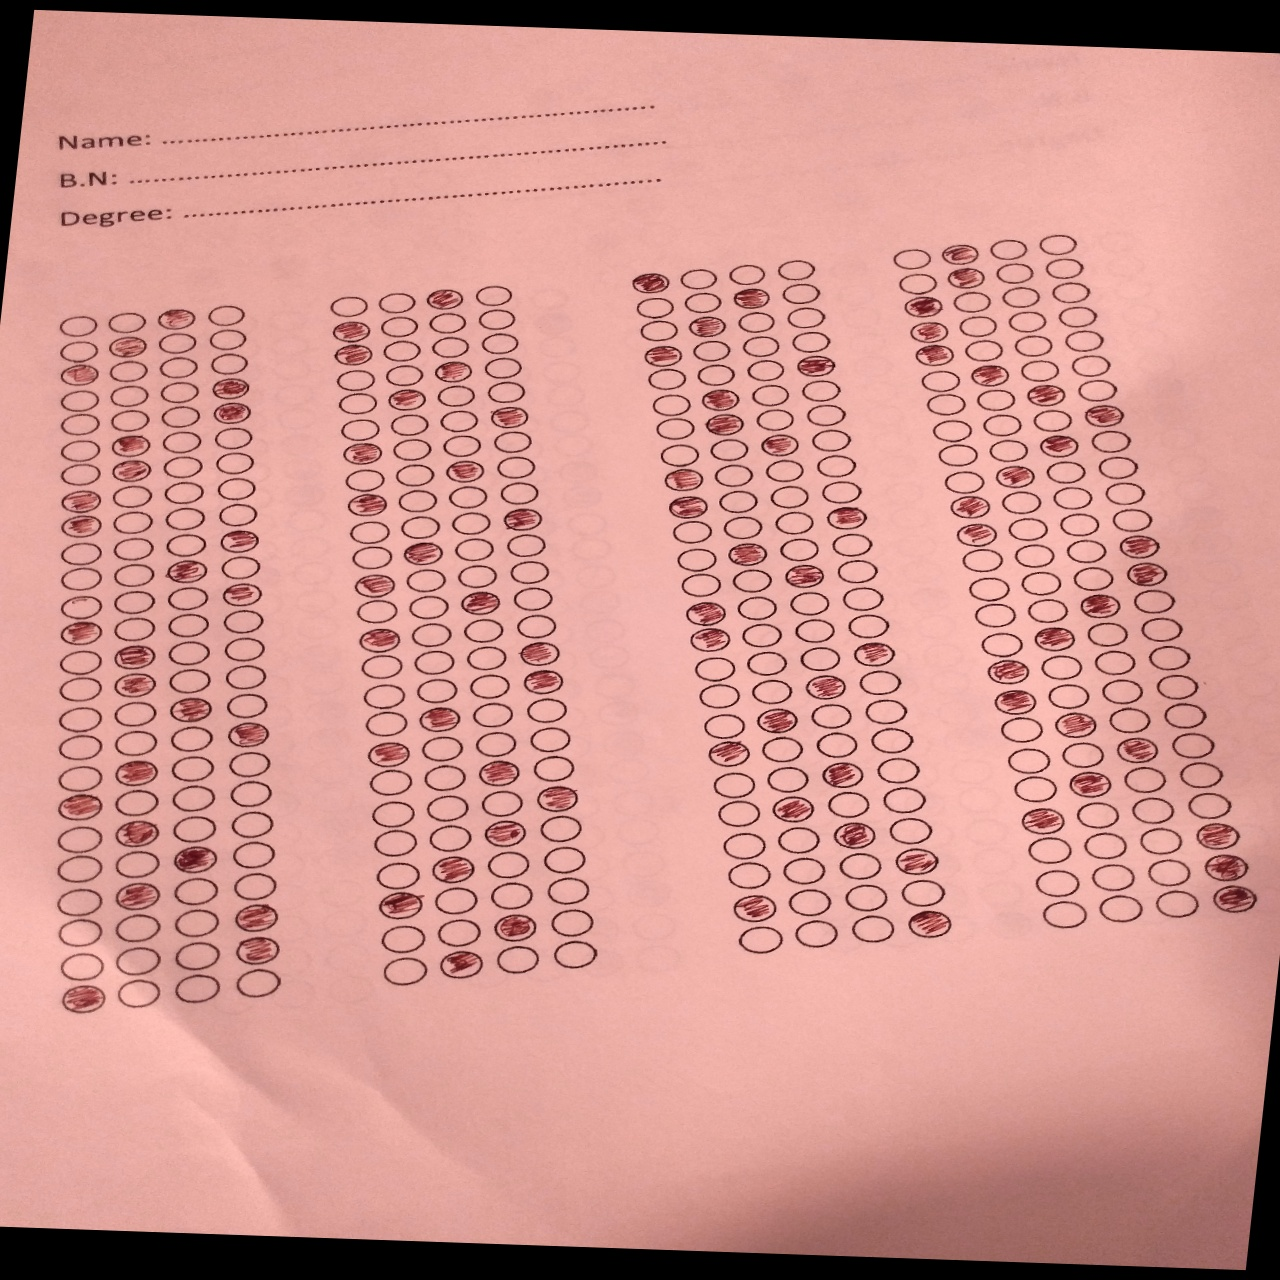not-c: (492, 944, 546, 976), (377, 955, 433, 987), (550, 938, 602, 971), (377, 921, 430, 953), (545, 908, 600, 938), (233, 967, 284, 999), (472, 789, 526, 818), (537, 813, 590, 843), (433, 918, 485, 947), (114, 945, 163, 975), (884, 815, 933, 845), (838, 851, 887, 881), (368, 829, 421, 857), (422, 825, 475, 853), (418, 795, 471, 823), (486, 851, 539, 879), (545, 878, 598, 906), (542, 845, 594, 873), (429, 887, 482, 915), (171, 877, 219, 907), (790, 918, 838, 948), (1042, 899, 1090, 930), (898, 877, 946, 907), (1145, 858, 1193, 888), (736, 924, 784, 954), (874, 755, 922, 785), (862, 694, 910, 724), (1178, 760, 1226, 790), (998, 715, 1046, 745), (690, 653, 738, 683), (719, 831, 767, 862), (709, 769, 757, 799), (1046, 681, 1094, 712), (1073, 799, 1121, 830), (486, 881, 540, 908), (1026, 836, 1075, 865), (1098, 678, 1148, 707), (54, 823, 101, 853), (1152, 888, 1199, 919), (825, 788, 872, 818), (1155, 672, 1201, 702), (1162, 700, 1208, 730), (797, 644, 844, 674), (757, 734, 804, 764), (1130, 796, 1177, 826), (173, 941, 222, 971), (114, 979, 162, 1008), (1096, 893, 1144, 922), (1088, 862, 1136, 891), (1032, 869, 1080, 898), (840, 881, 888, 911), (1136, 826, 1184, 856), (775, 826, 823, 856), (813, 730, 862, 760), (806, 702, 855, 731), (866, 723, 914, 753), (858, 669, 906, 699), (1141, 615, 1189, 645), (1107, 704, 1155, 734), (1170, 730, 1218, 760), (1005, 745, 1053, 775), (745, 648, 794, 678), (694, 682, 742, 712), (1091, 648, 1139, 678), (1148, 644, 1196, 673), (1057, 738, 1105, 768), (1119, 765, 1167, 795), (1083, 620, 1131, 649), (844, 612, 892, 641), (231, 872, 278, 901), (59, 951, 105, 980), (113, 787, 159, 816), (113, 850, 159, 879), (171, 974, 218, 1003), (56, 764, 103, 794), (113, 913, 159, 942), (57, 918, 104, 947), (1082, 832, 1129, 862), (880, 785, 927, 815), (1186, 791, 1233, 821), (1012, 775, 1058, 804), (765, 764, 812, 794), (716, 799, 763, 829), (748, 676, 795, 706), (1039, 653, 1085, 682), (835, 556, 881, 585), (56, 855, 104, 883), (54, 887, 102, 915), (847, 914, 896, 942), (781, 855, 829, 883), (787, 888, 835, 917), (59, 648, 105, 676), (57, 593, 104, 621), (168, 724, 215, 753), (468, 672, 515, 700), (359, 653, 406, 681), (529, 726, 576, 754), (171, 908, 218, 937), (726, 860, 772, 888), (700, 710, 747, 738), (976, 629, 1023, 658), (840, 583, 887, 611), (965, 576, 1012, 604), (111, 699, 157, 727), (110, 560, 156, 588), (163, 639, 209, 667), (224, 663, 270, 692), (475, 729, 520, 757), (411, 647, 457, 675), (525, 696, 571, 724), (422, 764, 468, 792), (370, 799, 416, 828), (230, 840, 275, 869), (795, 617, 840, 645), (960, 549, 1006, 577), (830, 532, 876, 560), (468, 701, 515, 728), (461, 617, 508, 644), (418, 734, 465, 761), (413, 678, 459, 704), (406, 594, 452, 621), (515, 610, 561, 636), (1055, 302, 1099, 331), (1076, 377, 1121, 406), (166, 612, 212, 639), (531, 755, 577, 782), (57, 704, 103, 731), (56, 675, 102, 702), (114, 729, 159, 756), (110, 615, 156, 642), (113, 588, 158, 615), (166, 667, 212, 694), (226, 692, 272, 719), (223, 635, 268, 662), (57, 733, 103, 760), (463, 644, 509, 670), (409, 620, 455, 647), (403, 566, 449, 593), (362, 709, 408, 736), (361, 683, 407, 710), (367, 769, 413, 796), (172, 785, 218, 812), (171, 754, 217, 781), (229, 810, 274, 837), (227, 779, 273, 806), (225, 751, 271, 778), (375, 862, 421, 888), (1024, 595, 1070, 622), (787, 588, 832, 615), (813, 452, 859, 479), (776, 535, 822, 561), (1042, 254, 1088, 281), (956, 312, 1002, 339), (979, 413, 1024, 440), (204, 301, 248, 328), (155, 328, 199, 355), (105, 358, 150, 384), (172, 815, 217, 842), (764, 459, 809, 486), (772, 508, 817, 535), (724, 261, 769, 288), (1131, 590, 1176, 617), (717, 488, 762, 515), (721, 513, 765, 540), (1049, 279, 1094, 306), (893, 268, 938, 295), (733, 595, 778, 621), (1012, 544, 1057, 570), (1109, 508, 1155, 533), (1062, 539, 1108, 565), (709, 463, 755, 489), (678, 572, 723, 598), (667, 519, 713, 545), (738, 622, 784, 648), (928, 417, 974, 443), (809, 427, 855, 452), (1085, 429, 1131, 455), (1051, 485, 1097, 511), (949, 290, 995, 315), (59, 388, 102, 415), (207, 350, 251, 377), (60, 564, 103, 591), (1097, 454, 1141, 481), (1012, 333, 1058, 358), (973, 602, 1017, 628), (1020, 571, 1064, 597), (1007, 516, 1051, 542), (729, 567, 774, 593), (767, 485, 811, 511), (937, 443, 981, 469), (941, 470, 986, 496), (707, 437, 751, 463), (1062, 327, 1107, 353), (888, 244, 933, 270), (915, 367, 960, 393), (922, 392, 967, 417), (983, 437, 1028, 463), (1043, 459, 1088, 485), (775, 257, 819, 282), (962, 338, 1007, 363), (974, 386, 1019, 411), (60, 539, 102, 566), (1102, 481, 1148, 505), (1017, 359, 1063, 383), (376, 290, 420, 315), (326, 292, 369, 318), (56, 336, 100, 362), (105, 309, 149, 335), (1058, 512, 1102, 538), (996, 491, 1040, 517), (1071, 353, 1115, 379), (57, 311, 98, 338), (1032, 409, 1078, 433), (1005, 309, 1051, 333), (821, 479, 865, 504), (673, 546, 717, 571), (388, 411, 430, 437), (434, 384, 476, 410), (493, 454, 536, 479), (484, 380, 526, 406), (161, 454, 203, 479), (216, 502, 258, 527), (990, 261, 1036, 285), (511, 585, 554, 610), (355, 598, 399, 622), (222, 610, 265, 634), (166, 585, 210, 610), (1070, 567, 1114, 592), (658, 442, 701, 467), (738, 333, 782, 358), (734, 309, 777, 334), (753, 408, 796, 433), (159, 403, 200, 429), (159, 377, 200, 403), (381, 338, 422, 363), (428, 311, 469, 336), (440, 409, 481, 435), (441, 433, 482, 458), (479, 332, 520, 358), (59, 411, 100, 437), (113, 508, 154, 533), (396, 486, 437, 512), (216, 475, 257, 501), (343, 468, 384, 493), (114, 536, 155, 561), (352, 543, 393, 568), (998, 287, 1044, 309), (339, 416, 381, 441), (382, 362, 424, 387), (428, 334, 470, 359), (477, 308, 519, 333), (164, 505, 206, 530), (394, 463, 436, 488), (508, 559, 550, 584), (222, 554, 264, 579), (349, 520, 392, 545), (784, 306, 826, 331), (799, 377, 842, 402), (690, 338, 733, 362), (676, 267, 719, 292), (645, 366, 687, 390), (635, 294, 678, 319), (400, 516, 442, 540), (633, 319, 676, 342), (447, 485, 488, 510), (377, 314, 418, 339), (339, 392, 380, 416), (333, 368, 374, 393), (210, 425, 251, 450), (158, 354, 199, 379), (472, 282, 513, 307), (62, 462, 103, 486), (60, 438, 101, 463), (111, 484, 152, 509), (110, 408, 151, 433), (163, 479, 204, 504), (161, 429, 202, 454), (215, 450, 256, 475), (392, 438, 433, 463), (506, 535, 547, 559), (501, 481, 542, 505), (166, 533, 207, 558), (454, 537, 495, 561), (1039, 231, 1080, 256), (779, 282, 821, 307), (989, 236, 1030, 260), (651, 392, 692, 416), (450, 512, 492, 536), (749, 383, 791, 407), (743, 358, 785, 381), (679, 290, 721, 313), (654, 417, 696, 441), (457, 565, 499, 588), (492, 428, 532, 452), (109, 384, 149, 409), (804, 403, 847, 425), (206, 328, 247, 352), (789, 329, 830, 353), (694, 362, 736, 384), (483, 358, 523, 380)
taken-c: (114, 881, 163, 912), (729, 893, 778, 924), (1065, 768, 1115, 798), (679, 598, 728, 628), (822, 502, 871, 532), (233, 903, 281, 933), (57, 983, 105, 1014), (1210, 885, 1258, 915), (990, 686, 1039, 716), (703, 738, 751, 769), (755, 706, 803, 736), (770, 794, 818, 824), (685, 626, 733, 656), (849, 638, 897, 668), (437, 949, 486, 979), (169, 845, 218, 874), (1200, 853, 1250, 883), (952, 519, 1001, 549), (722, 540, 771, 570), (233, 935, 280, 966), (801, 670, 847, 701), (377, 891, 425, 920), (906, 908, 954, 938), (1016, 805, 1064, 835), (1053, 712, 1101, 741), (1032, 622, 1080, 652), (983, 658, 1032, 687), (819, 760, 867, 789), (1123, 559, 1171, 588), (779, 561, 828, 591), (56, 794, 105, 822), (829, 821, 876, 850), (894, 847, 941, 877), (1114, 737, 1160, 767), (113, 821, 161, 849), (483, 819, 529, 847), (535, 785, 581, 812), (491, 914, 537, 941), (416, 706, 462, 733), (366, 741, 411, 768), (1194, 822, 1240, 849), (433, 855, 476, 883), (1117, 533, 1160, 561), (109, 431, 154, 458), (57, 513, 102, 540), (226, 720, 271, 747), (115, 760, 159, 787), (477, 760, 522, 787), (1078, 592, 1121, 620), (518, 640, 561, 667), (331, 316, 374, 343), (220, 581, 264, 608), (352, 572, 395, 599), (502, 505, 545, 532), (402, 540, 445, 567), (341, 440, 384, 467), (114, 670, 157, 697), (113, 644, 156, 670), (105, 334, 150, 360), (212, 399, 254, 425), (444, 459, 486, 486), (433, 358, 475, 384), (218, 527, 260, 554), (59, 488, 101, 515), (154, 305, 197, 331), (207, 374, 251, 400), (57, 361, 101, 387), (358, 627, 401, 653), (459, 591, 503, 617), (164, 558, 207, 584), (486, 403, 530, 429), (384, 387, 428, 413), (109, 458, 152, 484), (331, 340, 374, 366), (59, 620, 102, 646), (968, 362, 1012, 388), (346, 493, 388, 519), (169, 696, 211, 722), (667, 495, 709, 520), (1024, 381, 1067, 407), (424, 287, 467, 313), (660, 468, 703, 492), (629, 270, 670, 295), (949, 495, 992, 519), (794, 353, 836, 377), (701, 413, 743, 437), (1037, 434, 1080, 458), (687, 314, 729, 339), (907, 319, 949, 343), (697, 387, 738, 411), (761, 434, 803, 457), (994, 465, 1036, 489), (1081, 406, 1123, 429), (641, 343, 683, 367), (938, 243, 980, 266), (903, 294, 945, 318), (913, 342, 955, 366), (731, 287, 772, 311), (945, 266, 986, 290)
